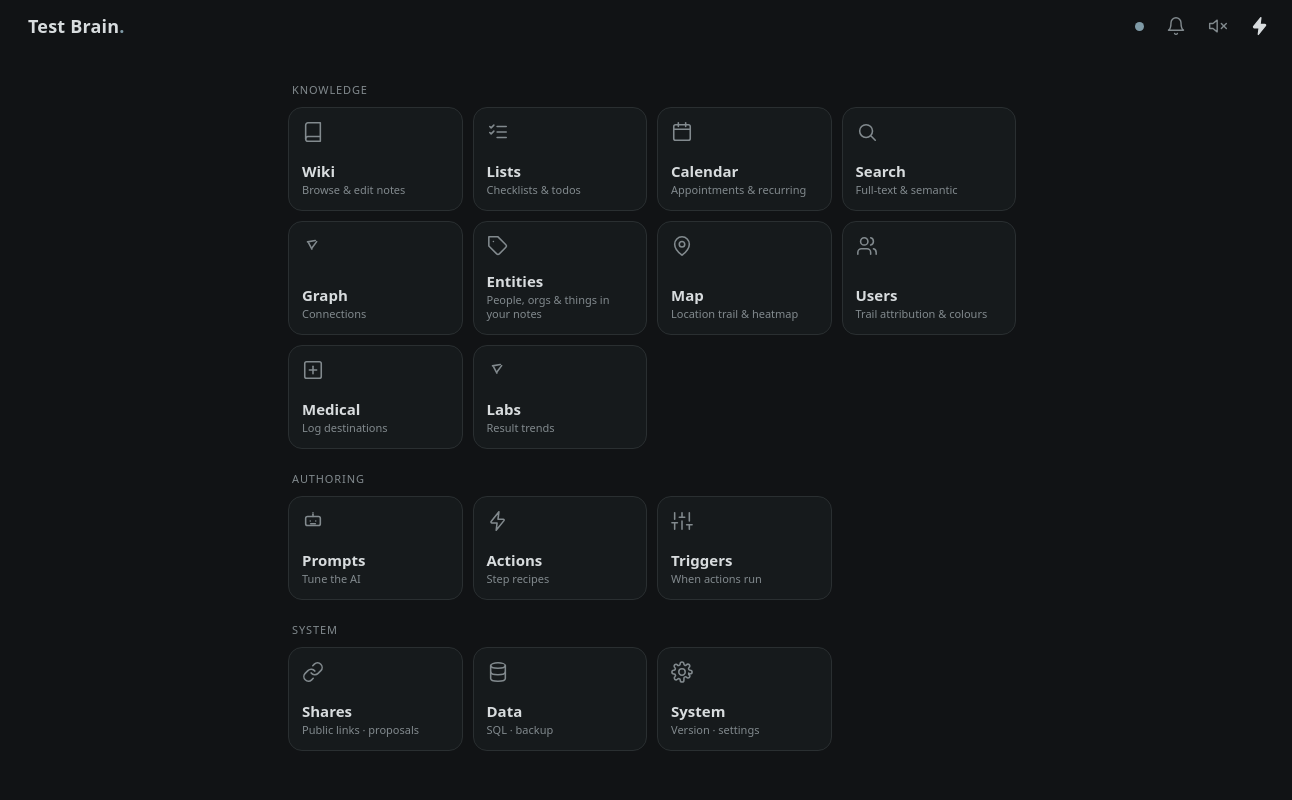
Test: Shell — Advanced launcher navigation › on an advanced surface the bolt returns to compose
Check: the text "Knowledge" is shown, box [292, 82, 368, 97]
Click the button named "Back to compose".
click(1260, 26)  # box [1244, 10, 1276, 42]
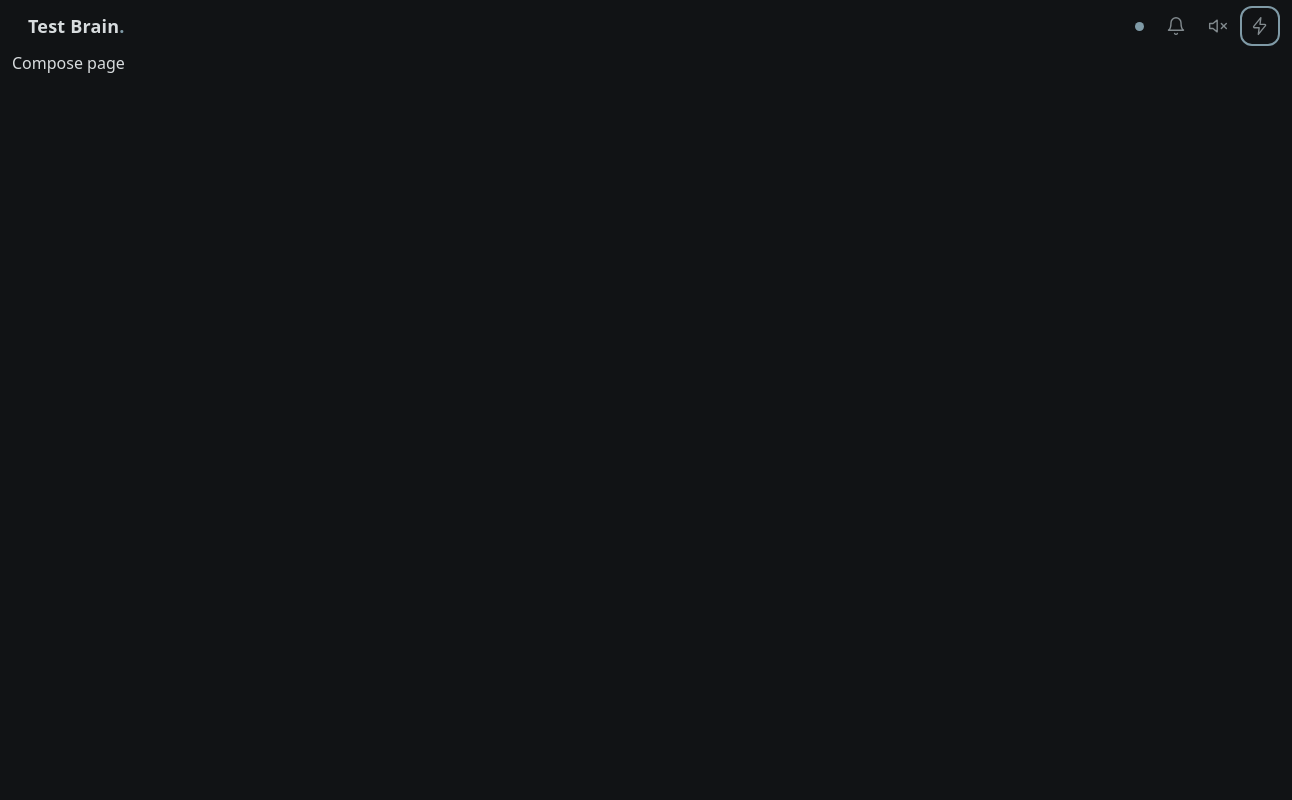
Check: the text "Compose page" is shown, box [12, 52, 125, 74]
